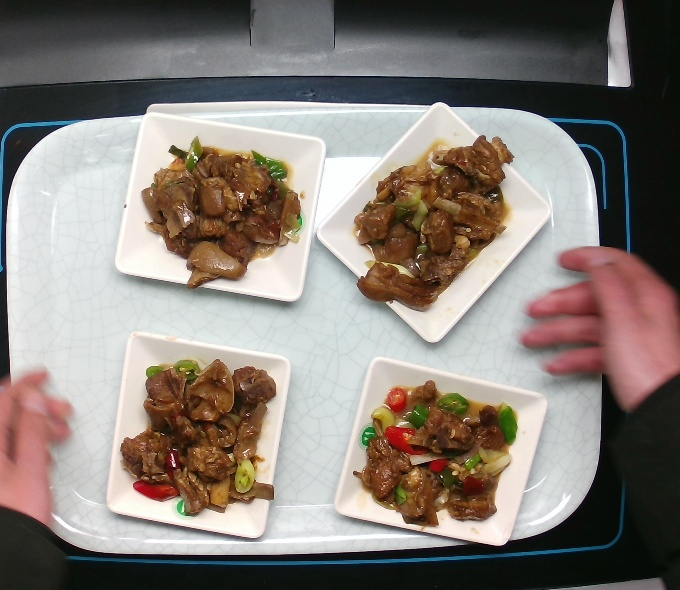wcq-YangRou: (349, 130, 524, 317), (113, 351, 283, 521), (135, 131, 307, 292), (347, 375, 522, 528)
